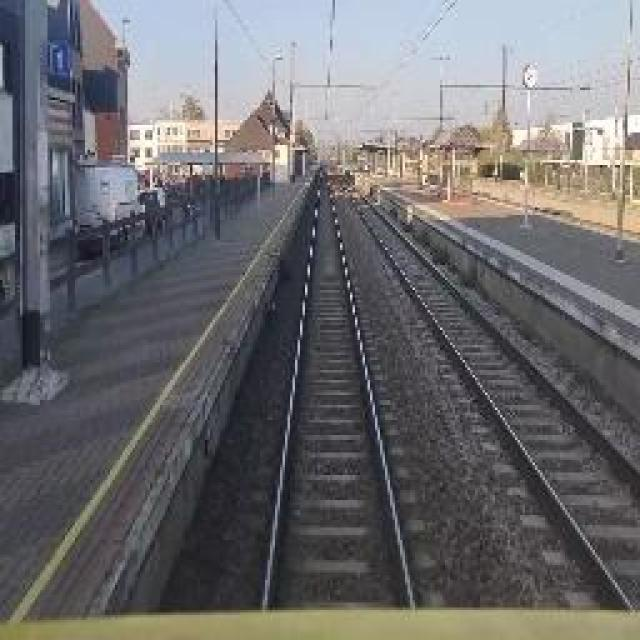rail: (329, 167, 640, 609), (236, 161, 456, 613)
